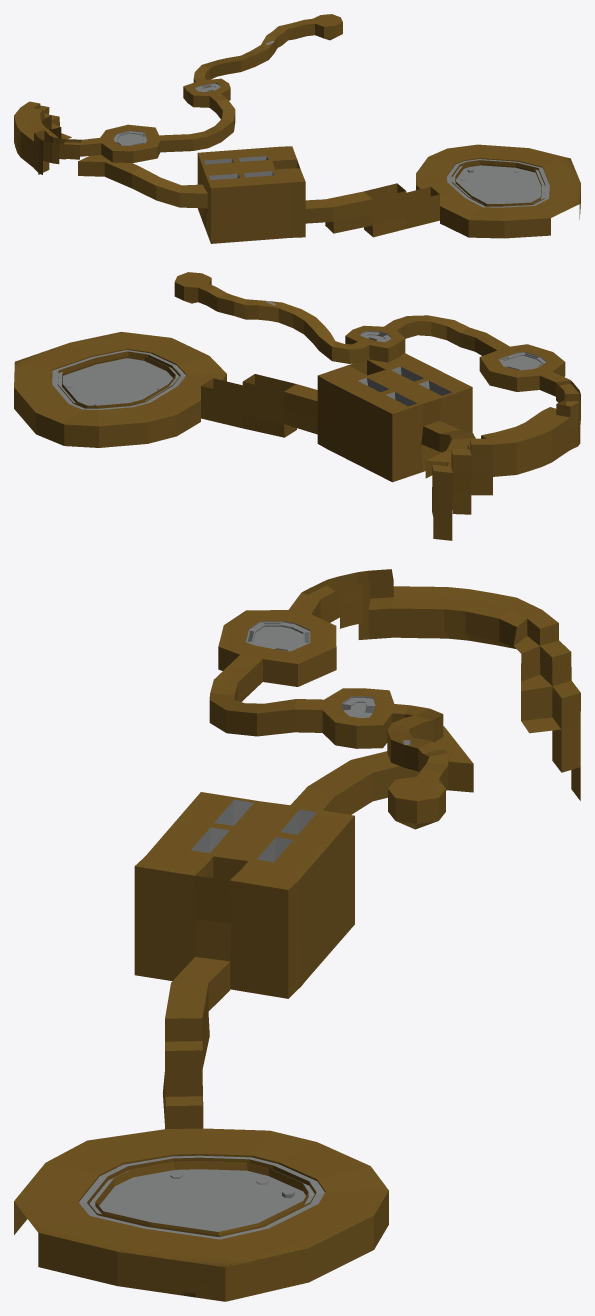
The model's file is NivelGL.gltf.
3 views of the same model, one above another, from view 1: azimuth 30°, elevation 25°; view 2: azimuth 150°, elevation 25°; view 3: azimuth 270°, elevation 25° (orthographic). The views are drawn at different scales.
Parts seen in each view (by area): view 1: Plane; view 2: Plane; view 3: Plane.
Part boxes in pixels (<box>): Plane: <box>14,14,580,243</box>; Plane: <box>14,272,580,540</box>; Plane: <box>14,569,580,1301</box>.
Bounding box in the file's own units: 177 × 59.38 × 89.64.
Materials: 1 (1 with a texture image).
